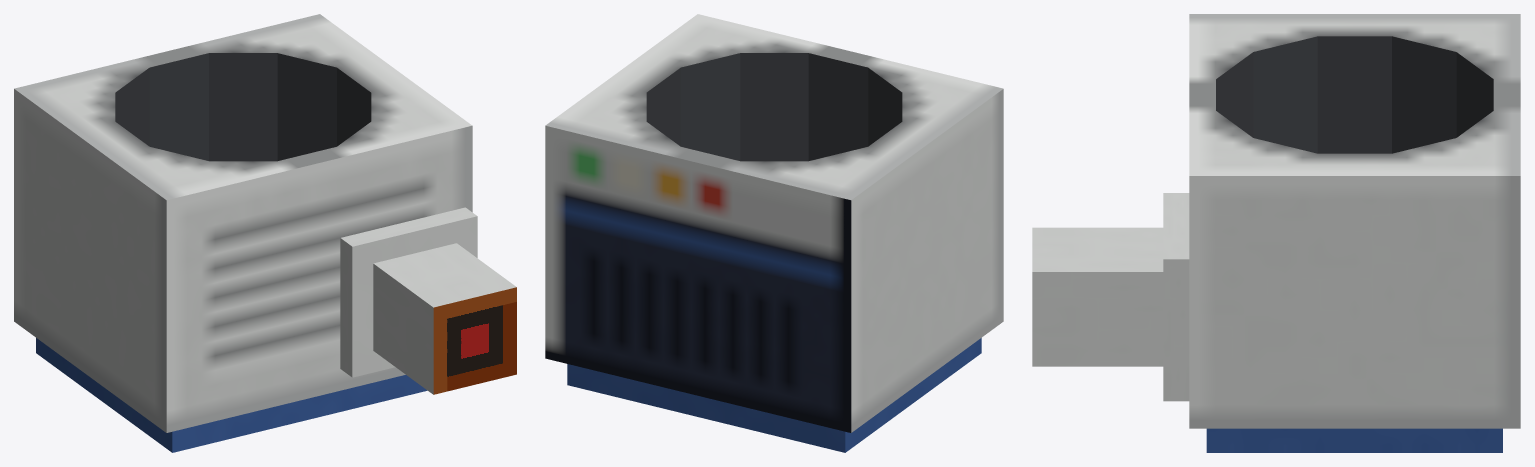
The model's file is era4_disk_bank_double_sided.obj.
The picture shows the model from 3 angles, left to right: view 1: azimuth 30°, elevation 25°; view 2: azimuth 150°, elevation 25°; view 3: azimuth 270°, elevation 25°; orthographic projection. The views are drawn at different scales.
Visible parts, largest first — view 1: era4_disk_bank; view 2: era4_disk_bank; view 3: era4_disk_bank.
Boxes of the visible parts, <box> form: era4_disk_bank: <box>14,14,516,452</box>; era4_disk_bank: <box>545,14,1003,452</box>; era4_disk_bank: <box>1032,14,1520,452</box>.
Bounding box in the file's own units: 1.38 × 1.12 × 1.75.
